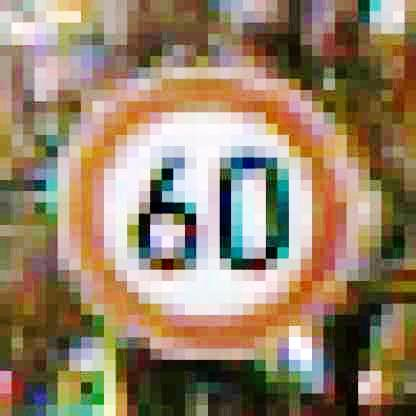Speed Limit -60-: (56, 70, 366, 361)
